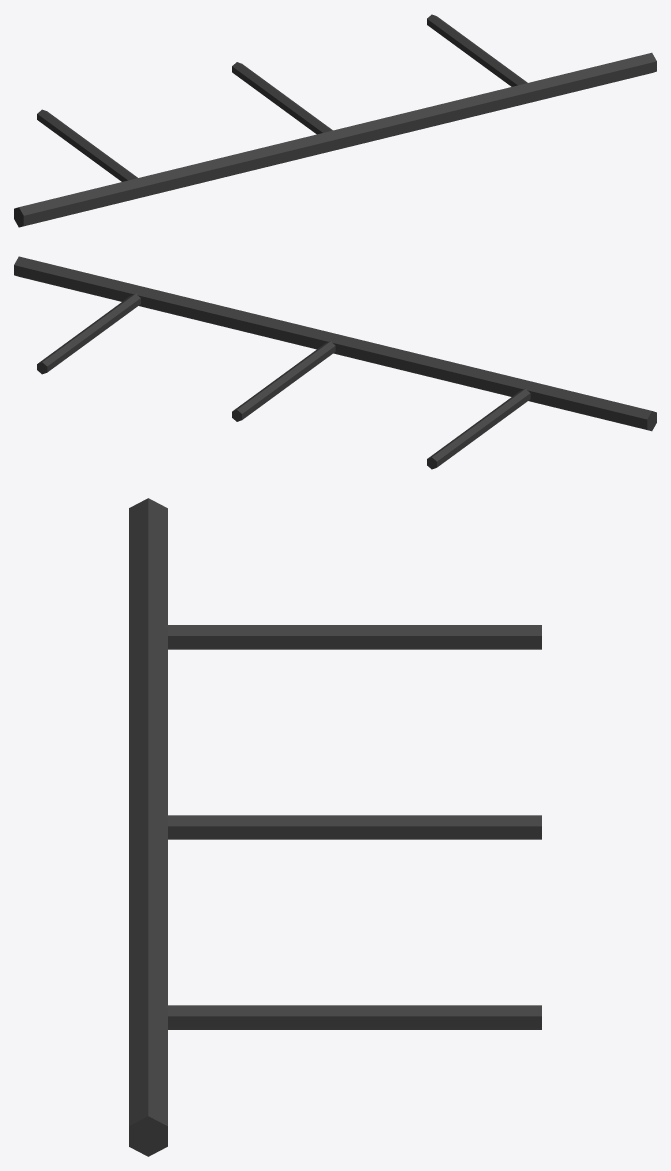
3 views of the same model, one above another, from view 1: azimuth 30°, elevation 25°; view 2: azimuth 150°, elevation 25°; view 3: azimuth 270°, elevation 25° (orthographic). The views are drawn at different scales.
Parts seen in each view (by area): view 1: Pipe, Drip branch, Drip branch.002, Drip branch.001; view 2: Pipe, Drip branch, Drip branch.001, Drip branch.002; view 3: Pipe, Drip branch, Drip branch.001, Drip branch.002.
Part boxes in pixels (bbox=[...]): Pipe: bbox=[14, 52, 656, 227]; Drip branch: bbox=[37, 109, 137, 181]; Drip branch.002: bbox=[427, 14, 527, 86]; Drip branch.001: bbox=[232, 62, 332, 134]; Pipe: bbox=[14, 256, 656, 431]; Drip branch: bbox=[427, 388, 530, 469]; Drip branch.001: bbox=[232, 340, 335, 421]; Drip branch.002: bbox=[37, 293, 140, 374]; Pipe: bbox=[129, 498, 167, 1156]; Drip branch: bbox=[164, 625, 541, 649]; Drip branch.001: bbox=[164, 815, 541, 839]; Drip branch.002: bbox=[164, 1005, 541, 1029].
Bounding box in the file's own units: 130 × 4 × 36.73.
